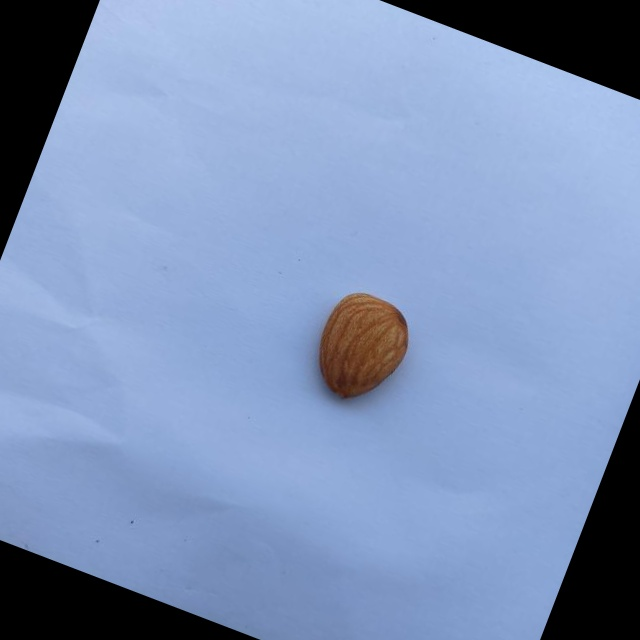grade1: (291, 274, 429, 424)
